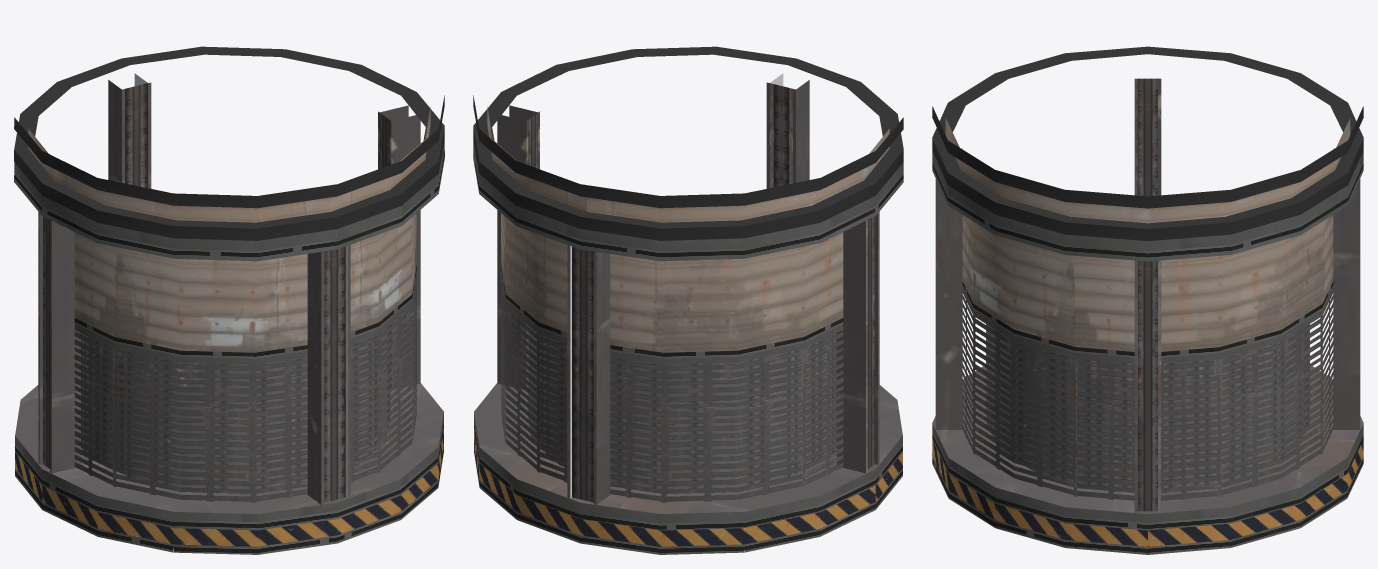
3 views of the same model, side by side, from view 1: azimuth 30°, elevation 25°; view 2: azimuth 150°, elevation 25°; view 3: azimuth 270°, elevation 25° (orthographic).
Visible parts, largest first — view 1: body0_model0_lod0_mesh4, body0_model0_lod0_mesh0, body0_model0_lod0_mesh2, body0_model0_lod0_mesh6, body0_model0_lod0_mesh1, body0_model0_lod0_mesh5, body0_model0_lod0_mesh3, body0_model0_lod0_mesh7, body0_model0_lod0_mesh8; view 2: body0_model0_lod0_mesh4, body0_model0_lod0_mesh0, body0_model0_lod0_mesh2, body0_model0_lod0_mesh6, body0_model0_lod0_mesh1, body0_model0_lod0_mesh5, body0_model0_lod0_mesh3, body0_model0_lod0_mesh7, body0_model0_lod0_mesh8; view 3: body0_model0_lod0_mesh4, body0_model0_lod0_mesh0, body0_model0_lod0_mesh6, body0_model0_lod0_mesh2, body0_model0_lod0_mesh1, body0_model0_lod0_mesh5, body0_model0_lod0_mesh3, body0_model0_lod0_mesh7.
Part boxes in pixels (bbox=[...]): body0_model0_lod0_mesh4: bbox=[28, 106, 430, 352]; body0_model0_lod0_mesh0: bbox=[74, 278, 416, 502]; body0_model0_lod0_mesh2: bbox=[15, 80, 443, 513]; body0_model0_lod0_mesh6: bbox=[14, 140, 444, 554]; body0_model0_lod0_mesh1: bbox=[14, 46, 444, 240]; body0_model0_lod0_mesh5: bbox=[81, 325, 390, 489]; body0_model0_lod0_mesh3: bbox=[38, 83, 389, 504]; body0_model0_lod0_mesh7: bbox=[15, 429, 443, 546]; body0_model0_lod0_mesh8: bbox=[134, 73, 347, 498]; body0_model0_lod0_mesh4: bbox=[487, 106, 889, 352]; body0_model0_lod0_mesh0: bbox=[501, 278, 843, 502]; body0_model0_lod0_mesh2: bbox=[474, 80, 902, 513]; body0_model0_lod0_mesh6: bbox=[473, 140, 903, 554]; body0_model0_lod0_mesh1: bbox=[473, 46, 903, 240]; body0_model0_lod0_mesh5: bbox=[527, 325, 836, 489]; body0_model0_lod0_mesh3: bbox=[528, 83, 879, 504]; body0_model0_lod0_mesh7: bbox=[474, 429, 902, 546]; body0_model0_lod0_mesh8: bbox=[570, 73, 783, 498]; body0_model0_lod0_mesh4: bbox=[945, 118, 1350, 351]; body0_model0_lod0_mesh0: bbox=[962, 295, 1333, 500]; body0_model0_lod0_mesh6: bbox=[932, 151, 1363, 554]; body0_model0_lod0_mesh2: bbox=[932, 78, 1363, 514]; body0_model0_lod0_mesh1: bbox=[932, 46, 1363, 241]; body0_model0_lod0_mesh5: bbox=[986, 324, 1309, 488]; body0_model0_lod0_mesh3: bbox=[1134, 78, 1161, 512]; body0_model0_lod0_mesh7: bbox=[932, 440, 1363, 546].
Bounding box in the file's own units: 192 × 176 × 192.
Materials: 9 (7 with a texture image).
